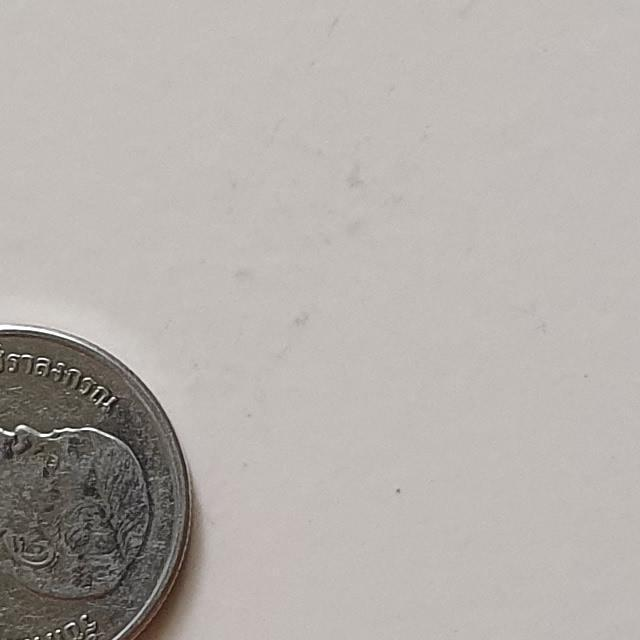1 Bath: (1, 311, 208, 640)
